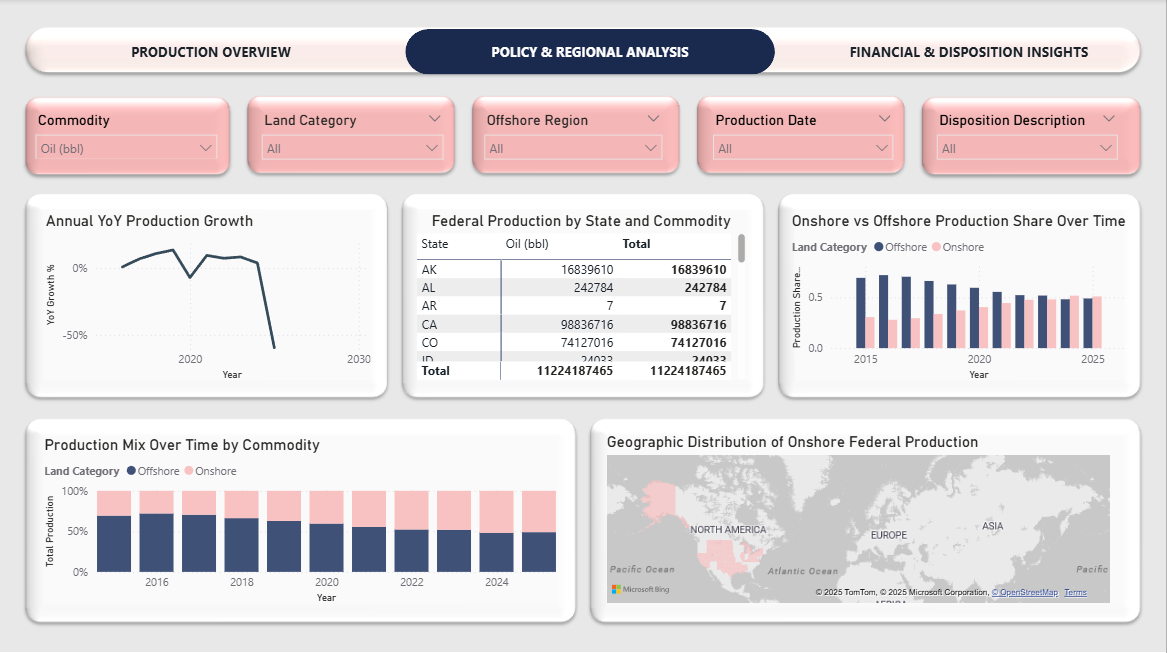

The dashboard page shown, as its layout file describes it:
{"tool":"powerbi","page":{"name":"POLICY & REGIONAL ANALYSIS","canvas":[1280,720],"ordinal":1},"visuals":[{"type":"slicer","fields":{"Values":["OGORBcsv.Commodity"]},"box":[28.8,119.4,219.6,56.3],"z":0},{"type":"slicer","fields":{"Values":["OGORBcsv.Land Category"]},"box":[277.2,119.4,219.6,93.3],"z":1000},{"type":"slicer","fields":{"Values":["OGORBcsv.Offshore Region"]},"box":[521.4,119.4,215.4,72.7],"z":2000},{"type":"slicer","fields":{"Values":["OGORBcsv.Production Date"]},"box":[772.6,119.4,218.2,72.7],"z":3000},{"type":"slicer","fields":{"Values":["OGORBcsv.Disposition Description"]},"box":[1018.6,120,218.6,71.4],"z":4000},{"type":"pageNavigator","box":[28.8,32.9,1239.1,50.8],"z":5000},{"type":"filledMap","title":"Geographic Distribution of Onshore Federal Production","fields":{"Category":["OGORBcsv.State"]},"box":[661.7,476.7,561.7,191.7],"z":6000},{"type":"hundredPercentStackedColumnChart","title":"Production Mix Over Time by Commodity","fields":{"Category":["Date.Year"],"Y":["OGORBcsv.Total Production"],"Series":["OGORBcsv.Land Category"]},"box":[43.3,478.3,571.7,190],"z":7000},{"type":"pivotTable","title":"Federal Production by State and Commodity","fields":{"Rows":["OGORBcsv.State"],"Columns":["OGORBcsv.Commodity"],"Values":["OGORBcsv.Total Production"]},"box":[453.5,233.1,370.7,189.8],"z":8000},{"type":"lineChart","title":"Annual YoY Production Growth","fields":{"Category":["Date.Year"],"Y":["Date.YoY Growth %"]},"box":[45,233.3,366.7,190],"z":9000},{"type":"clusteredColumnChart","title":"Onshore vs Offshore Production Share Over Time","fields":{"Category":["Date.Year"],"Y":["OGORBcsv.Production Share %"],"Series":["OGORBcsv.Land Category"]},"box":[865,233.3,379,190],"z":10000}]}

Visuals, with their boxes in screenshot pixels (x1, y1, x2, y2), scaled from the page's 1280x720 canvas onto the 1167x653 screenshot:
slicer - OGORBcsv.Commodity: BBox(26, 108, 226, 159)
slicer - OGORBcsv.Land Category: BBox(253, 108, 453, 193)
slicer - OGORBcsv.Offshore Region: BBox(475, 108, 672, 174)
slicer - OGORBcsv.Production Date: BBox(704, 108, 903, 174)
slicer - OGORBcsv.Disposition Description: BBox(929, 109, 1128, 174)
pageNavigator: BBox(26, 30, 1156, 76)
"Geographic Distribution of Onshore Federal Production" filledMap: BBox(603, 432, 1115, 606)
"Production Mix Over Time by Commodity" hundredPercentStackedColumnChart: BBox(39, 434, 561, 606)
"Federal Production by State and Commodity" pivotTable: BBox(413, 211, 751, 384)
"Annual YoY Production Growth" lineChart: BBox(41, 212, 375, 384)
"Onshore vs Offshore Production Share Over Time" clusteredColumnChart: BBox(789, 212, 1134, 384)
